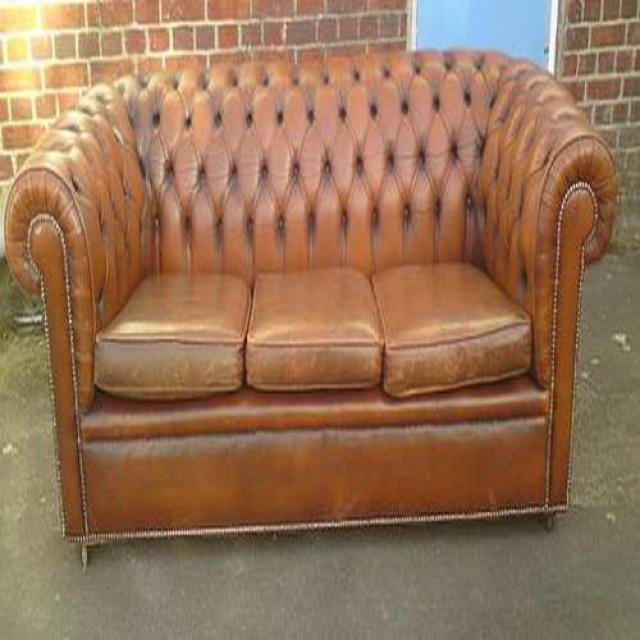sofa: (1, 46, 621, 549)
